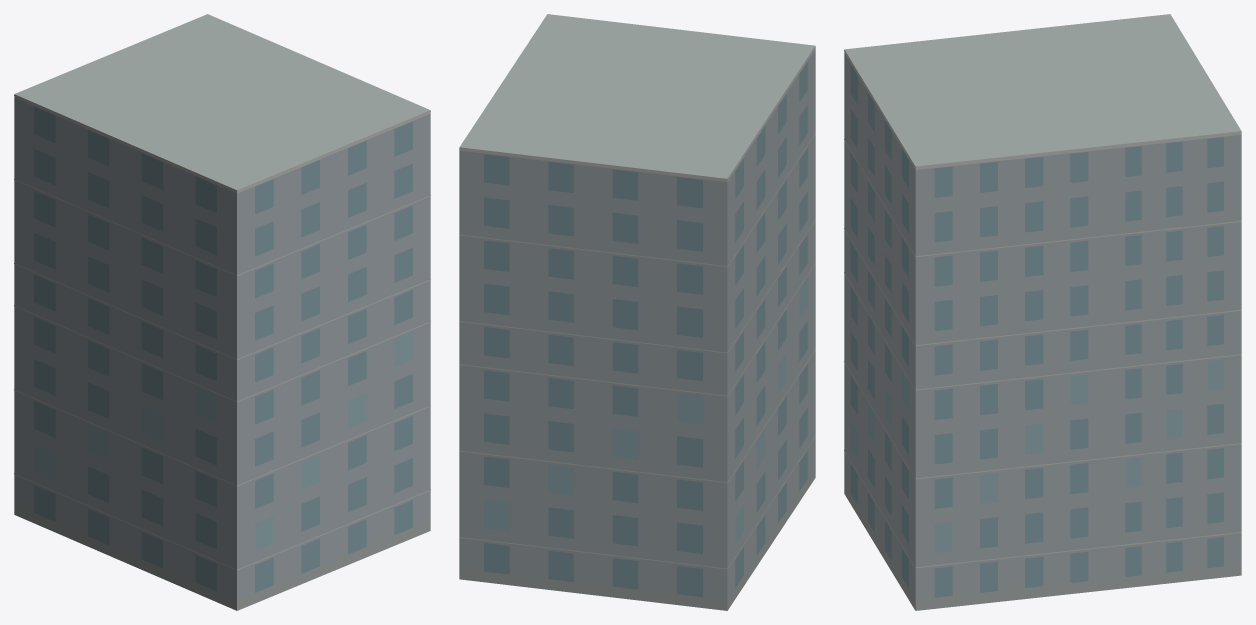
File: residential-606fd2c8-f879-4d80-b0d5-1844c3ac3273.glb
3 renders of one model, left to right at view 1: azimuth 30°, elevation 25°; view 2: azimuth 150°, elevation 25°; view 3: azimuth 270°, elevation 25°, orthographic. The views are drawn at different scales.
Parts seen in each view (by area): view 1: residential-606fd2c8-f879-4d80-b0d5-1844c3ac3273.tmp; view 2: residential-606fd2c8-f879-4d80-b0d5-1844c3ac3273.tmp; view 3: residential-606fd2c8-f879-4d80-b0d5-1844c3ac3273.tmp.
Boxes of the visible parts, x1,y1,x2,y2 form: residential-606fd2c8-f879-4d80-b0d5-1844c3ac3273.tmp: (14, 14, 430, 610); residential-606fd2c8-f879-4d80-b0d5-1844c3ac3273.tmp: (459, 14, 815, 610); residential-606fd2c8-f879-4d80-b0d5-1844c3ac3273.tmp: (844, 14, 1241, 610).
Size of the model in its own units: 22.48 by 30.5 by 24.74.
